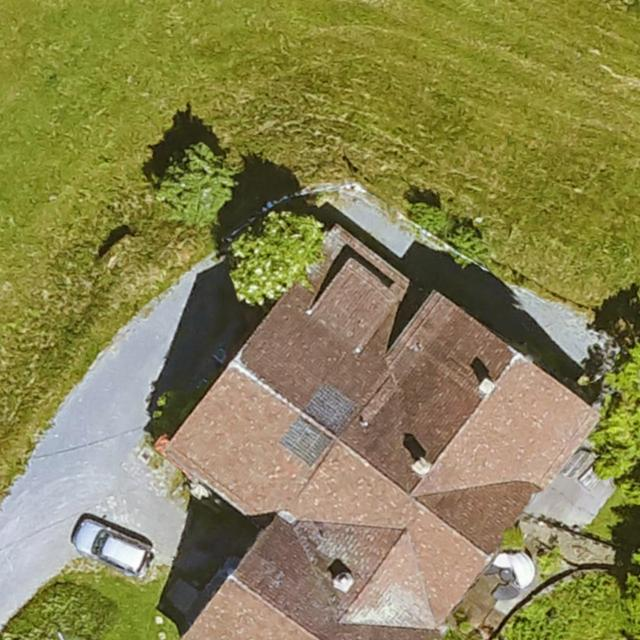tree: (223, 208, 325, 306), (595, 335, 640, 508), (155, 140, 238, 227)
